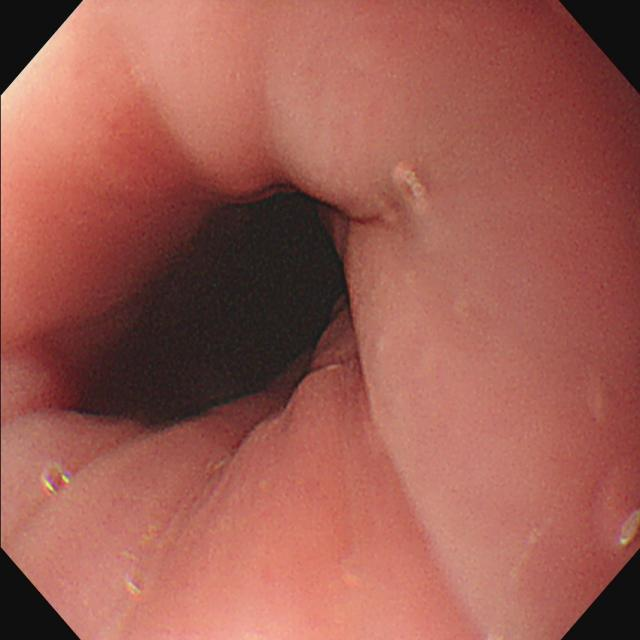E: (143, 170, 379, 435)
T: (39, 462, 72, 501)
